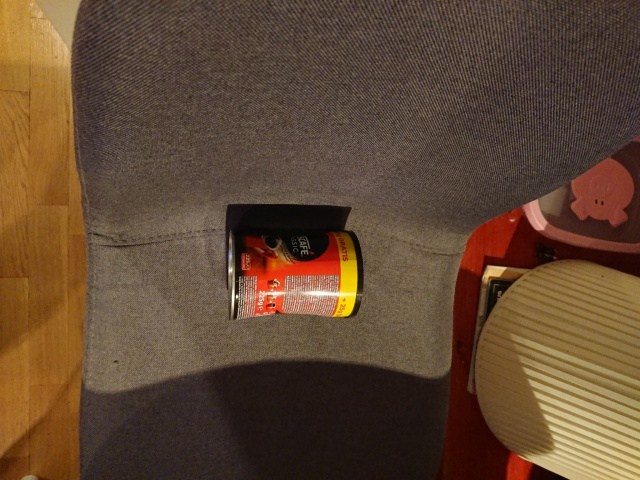Nescafe Classic 225g: (222, 227, 367, 322)
